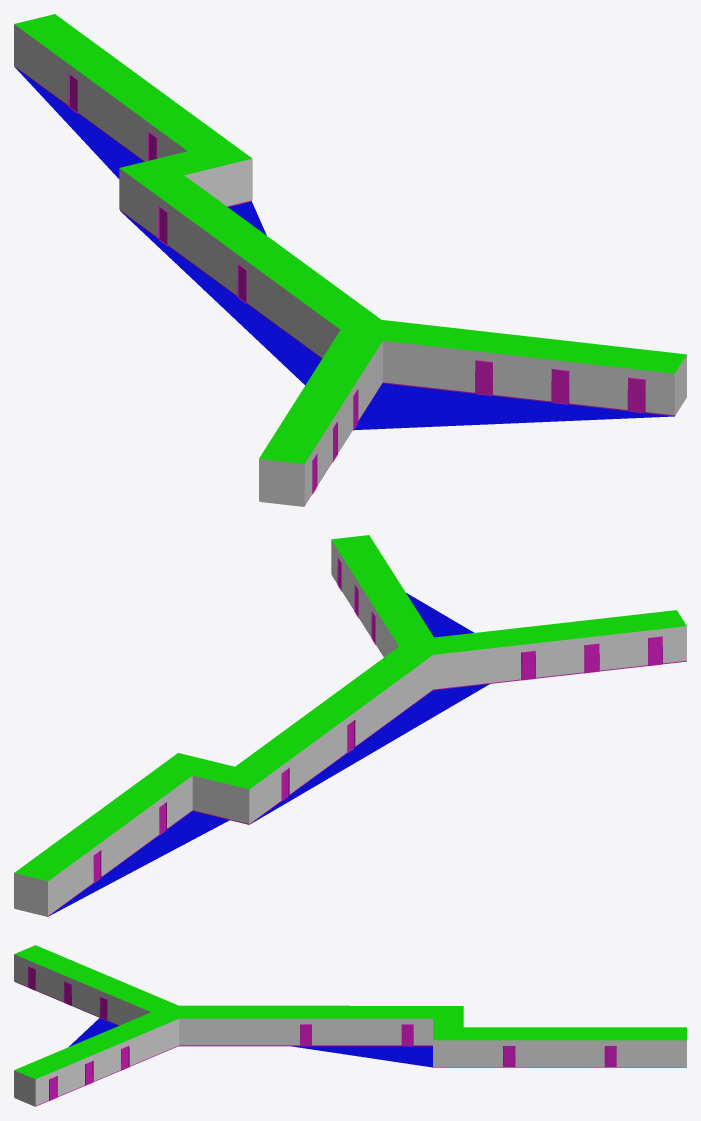
File: HallWay.fbx
3 renders of one model, top to bottom at view 1: azimuth 30°, elevation 25°; view 2: azimuth 150°, elevation 25°; view 3: azimuth 270°, elevation 25°, orthographic. The views are drawn at different scales.
Visible parts, largest first — view 1: Hallway_Corner_L.003; view 2: Hallway_Corner_L.003; view 3: Hallway_Corner_L.003.
Part boxes in pixels (left/top/right/bottom): Hallway_Corner_L.003: left=14, top=14, right=686, bottom=506; Hallway_Corner_L.003: left=14, top=535, right=686, bottom=916; Hallway_Corner_L.003: left=14, top=945, right=686, bottom=1106.
Size of the model in its own units: 3128 by 300 by 6626.
